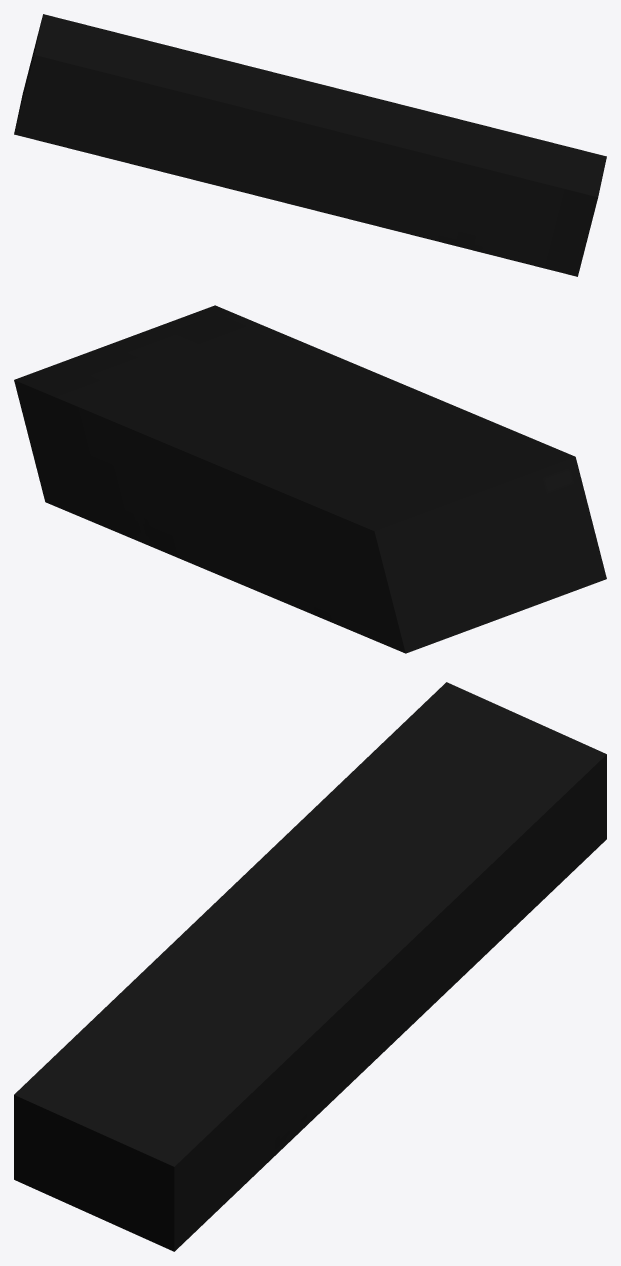
The model's file is frame__support_brace_1.glb.
3 views of the same model, one above another, from view 1: azimuth 30°, elevation 25°; view 2: azimuth 150°, elevation 25°; view 3: azimuth 270°, elevation 25° (orthographic). The views are drawn at different scales.
Visible parts, largest first — view 1: world; view 2: world; view 3: world.
Boxes of the visible parts, left/top/right/bottom form: world: left=14, top=14, right=606, bottom=276; world: left=14, top=305, right=606, bottom=653; world: left=14, top=682, right=606, bottom=1251.
Size of the model in its own units: 0.1716 by 0.072 by 0.1371.
1 material, 1 textured.
